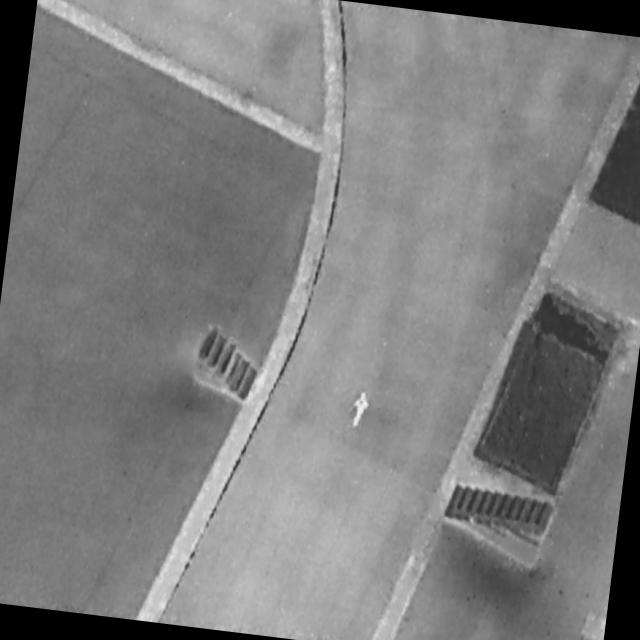person: (346, 387, 374, 433)
